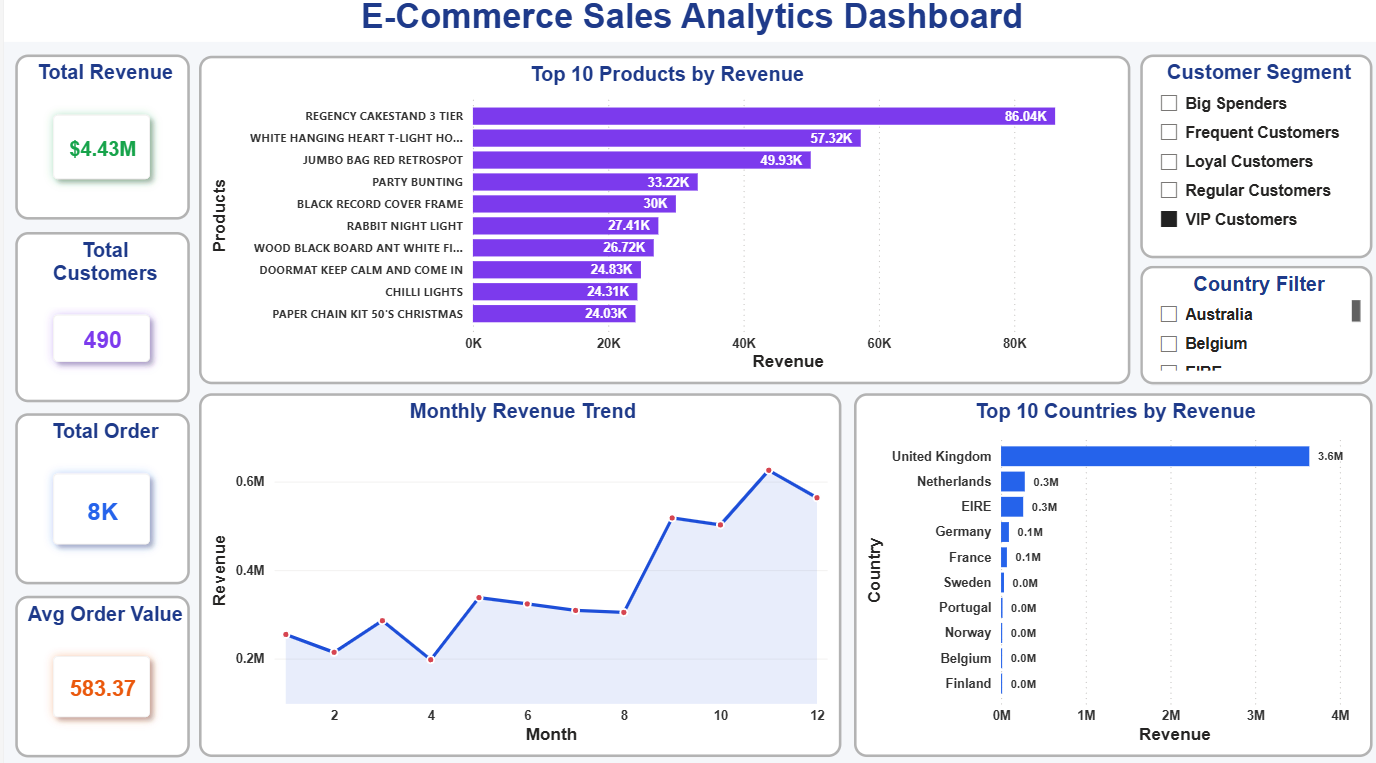

What the dashboard file says about the page in this screenshot:
{"tool":"powerbi","page":{"name":"Executive Overview","canvas":[1280,720],"ordinal":0},"visuals":[{"type":"textbox","box":[0,0,1280.2,46.5],"z":0},{"type":"cardVisual","title":"Total Revenue","fields":{"Data":["cleaned ecommerce data.Total Revenue"]},"box":[10.5,58.1,162.8,153.5],"z":1000},{"type":"cardVisual","title":"Total Customers","fields":{"Data":["cleaned ecommerce data.Total Customers"]},"box":[10.5,223.3,162.8,158.1],"z":2000},{"type":"cardVisual","title":"Avg Order Value","fields":{"Data":["cleaned ecommerce data.Avg Order Value"]},"box":[10.5,561.6,162.8,150],"z":3000},{"type":"cardVisual","title":"Total Order","fields":{"Data":["cleaned ecommerce data.Total Orders"]},"box":[10.5,391.9,162.8,159.3],"z":4000},{"type":"lineChart","title":"Monthly Revenue Trend","fields":{"Category":["cleaned ecommerce data.InvoiceMonth"],"Y":["cleaned ecommerce data.Total Revenue"]},"box":[181.4,373.3,597.7,338.4],"z":5000},{"type":"clusteredBarChart","title":"Top 10 Countries by Revenue","fields":{"Category":["cleaned ecommerce data.Country"],"Y":["cleaned ecommerce data.Total Revenue"]},"box":[790.4,372.9,482,338.4],"z":6000},{"type":"clusteredBarChart","title":"Top 10 Products by Revenue","fields":{"Category":["cleaned ecommerce data.Description"],"Y":["cleaned ecommerce data.Total Revenue"]},"box":[181.4,59.3,866.3,305.8],"z":7000},{"type":"slicer","title":"Country Filter","fields":{"Values":["cleaned ecommerce data.Country"]},"box":[1057,254.7,216.3,110.5],"z":8000},{"type":"slicer","title":"Customer Segment","fields":{"Values":["rfm customer segments.Segment"]},"box":[1057,58.1,216.3,189.5],"z":9000}]}

Visuals, with their boxes in screenshot pixels (x1, y1, x2, y2), scaled from the page's 1280x720 canvas onto the 1376x763 screenshot:
textbox: box=[0, 0, 1375, 49]
"Total Revenue" cardVisual: box=[11, 62, 186, 224]
"Total Customers" cardVisual: box=[11, 237, 186, 404]
"Avg Order Value" cardVisual: box=[11, 595, 186, 754]
"Total Order" cardVisual: box=[11, 415, 186, 584]
"Monthly Revenue Trend" lineChart: box=[195, 396, 838, 754]
"Top 10 Countries by Revenue" clusteredBarChart: box=[850, 395, 1368, 754]
"Top 10 Products by Revenue" clusteredBarChart: box=[195, 63, 1126, 387]
"Country Filter" slicer: box=[1136, 270, 1369, 387]
"Customer Segment" slicer: box=[1136, 62, 1369, 262]
